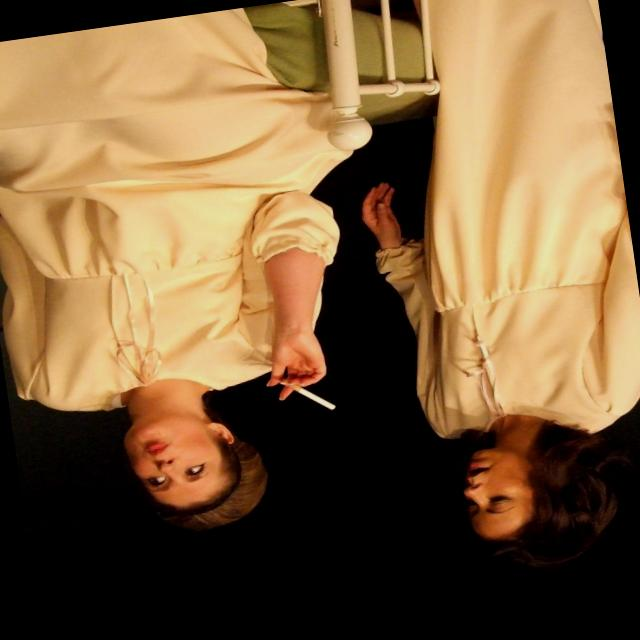smoke: (272, 369, 342, 428)
